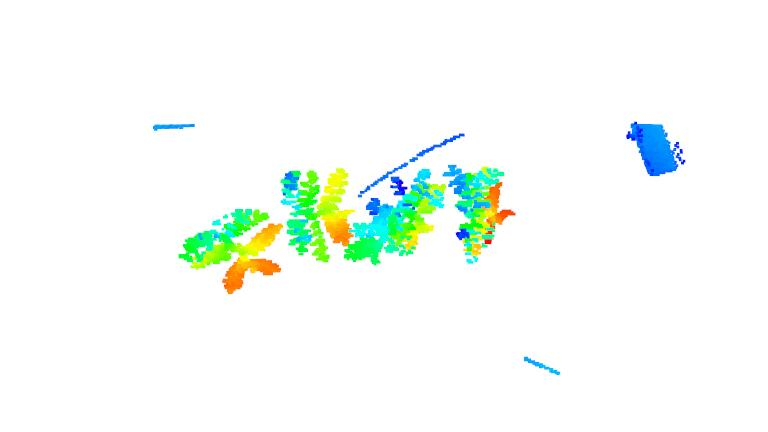chickpea: (342, 166, 453, 265), (177, 202, 283, 290), (281, 156, 351, 262), (447, 161, 509, 266)
